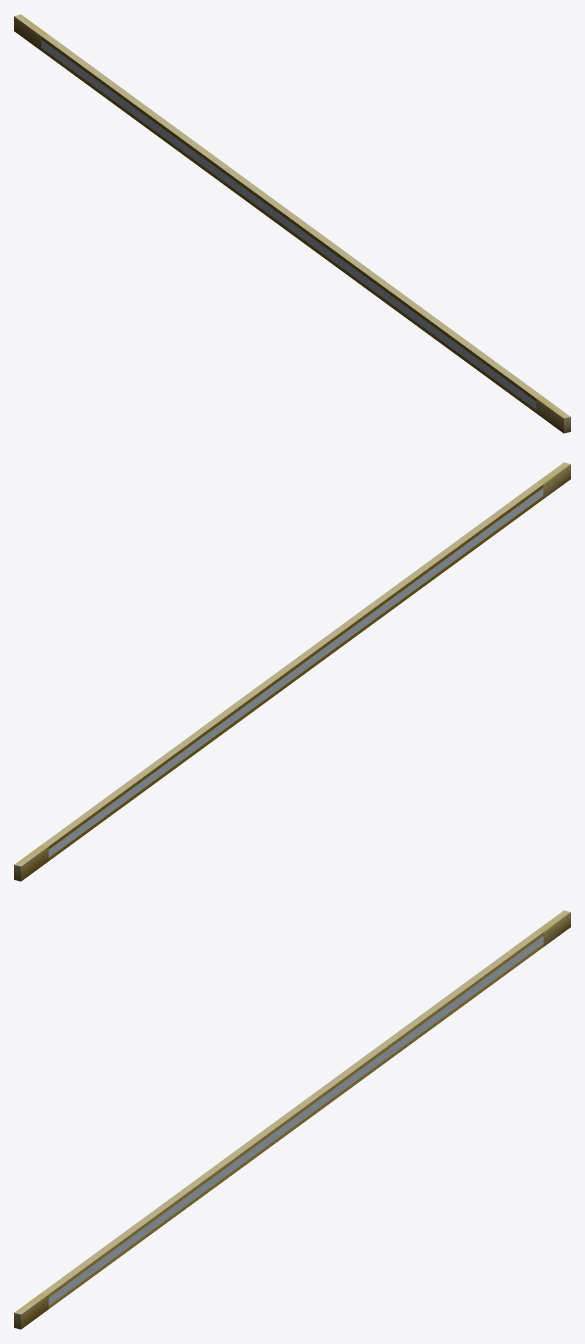
The model's file is SpaceGrindrail02.gltf.
The picture shows the model from 3 angles, top to bottom: view 1: azimuth 30°, elevation 25°; view 2: azimuth 150°, elevation 25°; view 3: azimuth 330°, elevation 25°; orthographic projection.
Parts seen in each view (by area): view 1: SpaceGrindrail02Mesh; view 2: SpaceGrindrail02Mesh; view 3: SpaceGrindrail02Mesh.
Boxes of the visible parts, x1,y1,x2,y2 form: SpaceGrindrail02Mesh: [14, 14, 570, 433]; SpaceGrindrail02Mesh: [14, 462, 570, 881]; SpaceGrindrail02Mesh: [14, 910, 570, 1329].
Size of the model in its own units: 0.15 by 0.3001 by 20.
